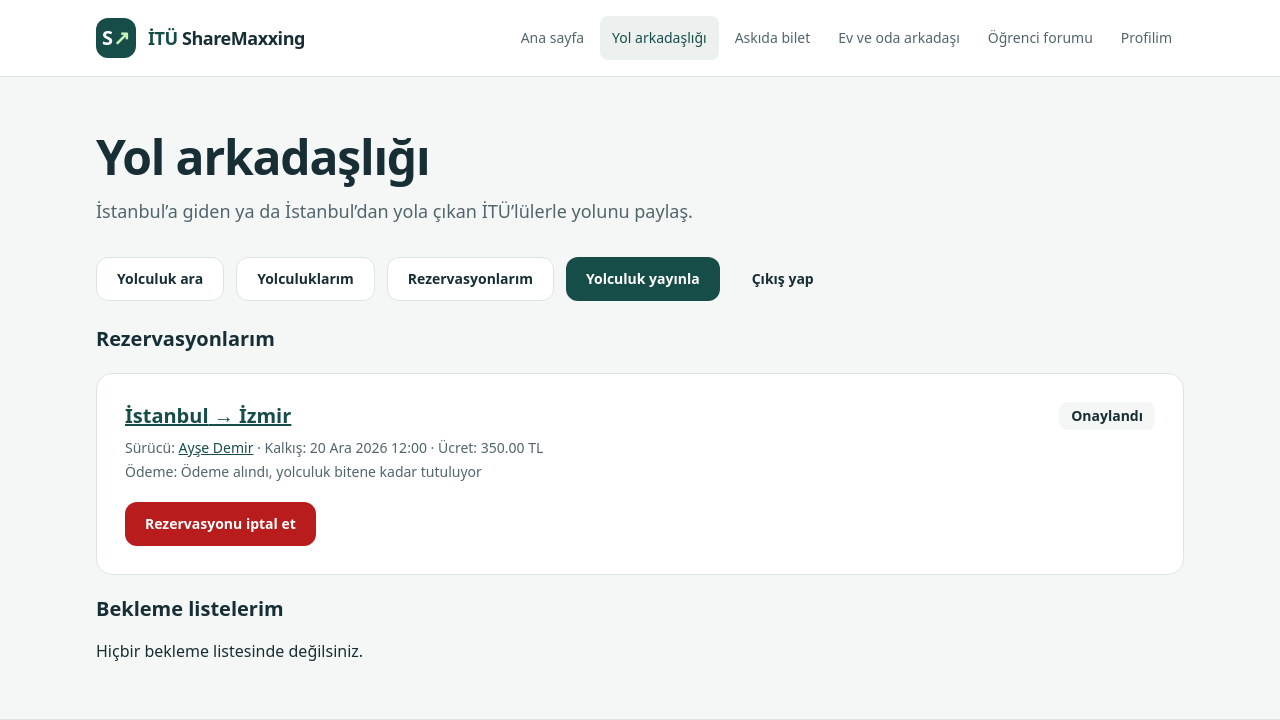
Scenario: shows the server message when a booking cannot be cancelled
Click the button "Rezervasyonu iptal et" at (220, 524), box [125,502,316,546]
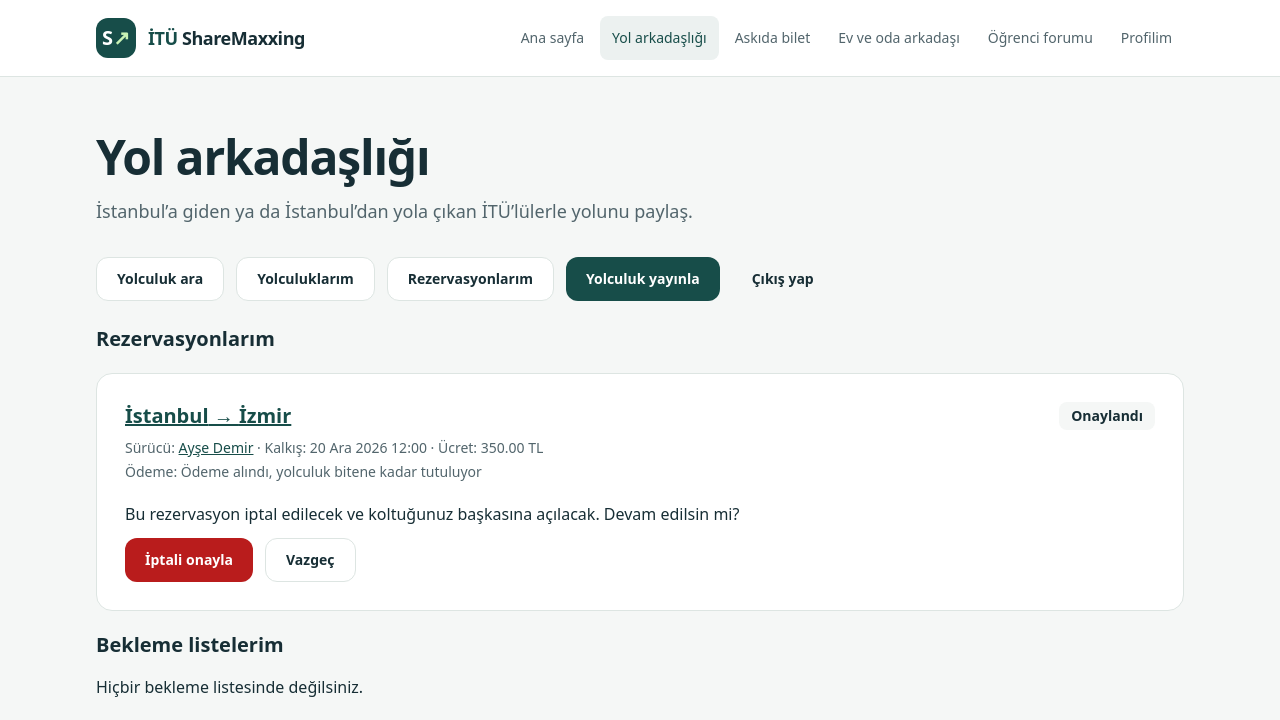
Click the button "İptali onayla" at (189, 560), box [125,538,253,582]
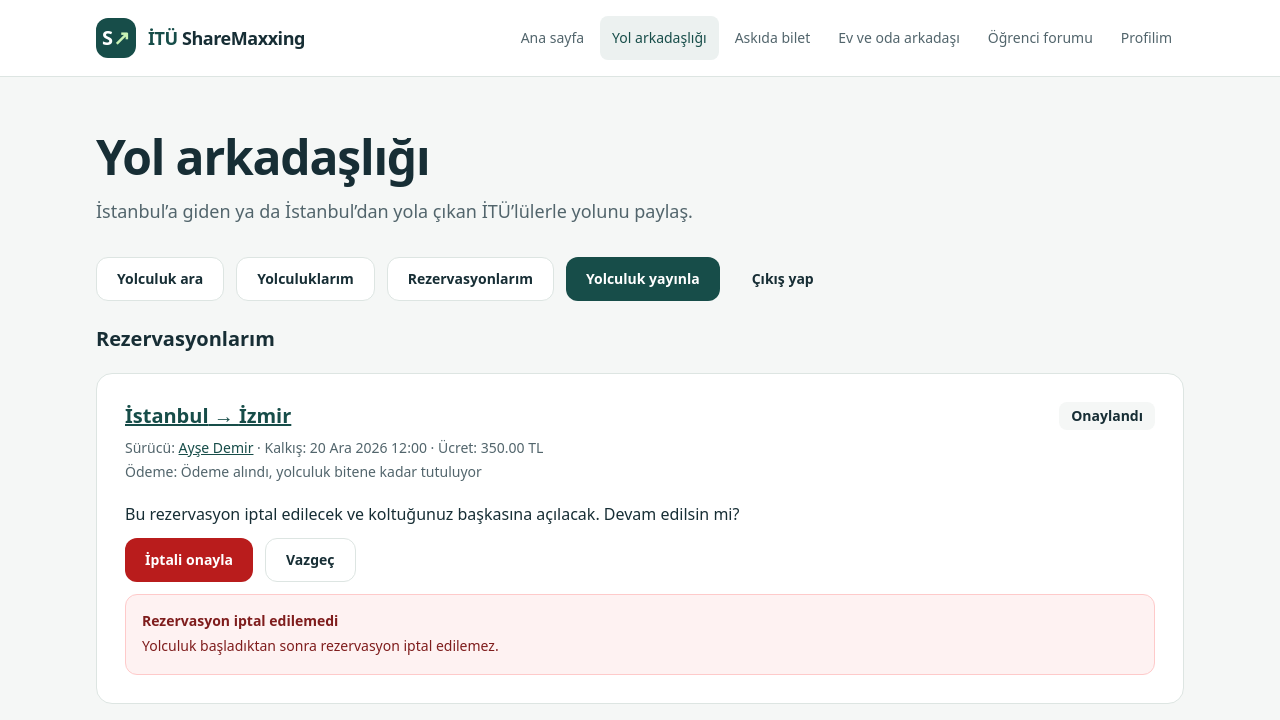
Expected: the text "Onaylandı" is shown, [1059,402,1155,430]
Now the message shows "Yolculuk başladıktan sonra rezervasyon iptal edilemez.", box [142,636,499,655]
